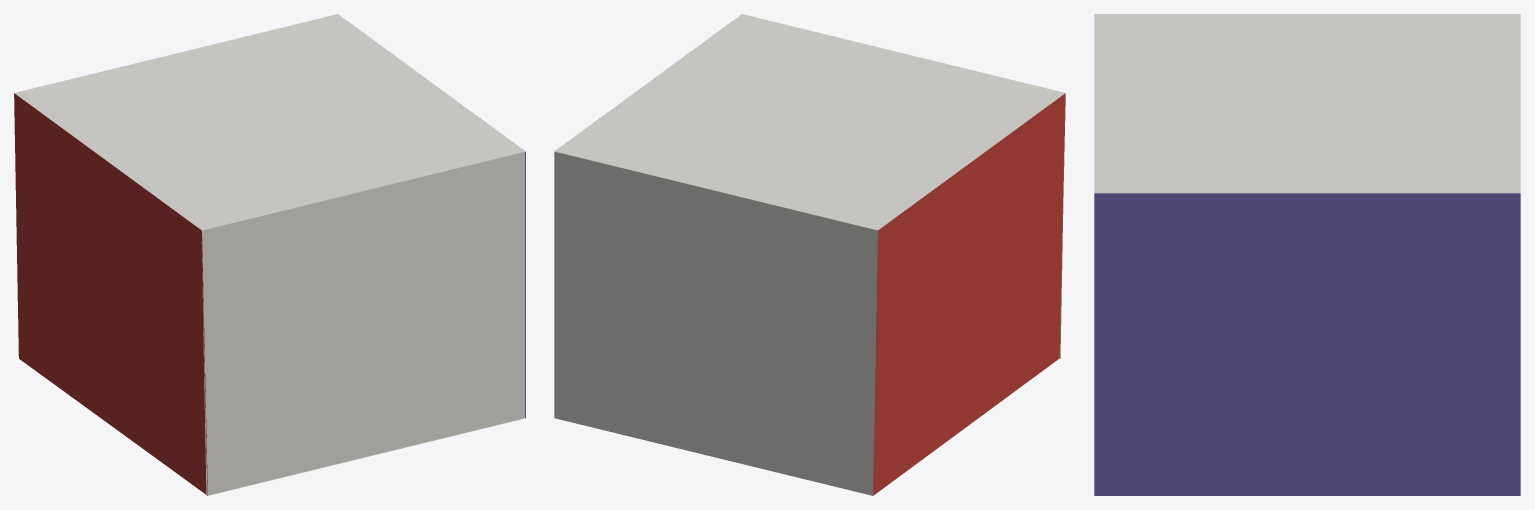
File: cornell_whitefurnace.glb
The picture shows the model from 3 angles, left to right: view 1: azimuth 30°, elevation 25°; view 2: azimuth 150°, elevation 25°; view 3: azimuth 270°, elevation 25°; orthographic projection. The views are drawn at different scales.
Visible parts, largest first — view 1: CornellBox-Empty-Squashed; view 2: CornellBox-Empty-Squashed; view 3: CornellBox-Empty-Squashed.
Boxes of the visible parts, x1,y1,x2,y2 form: CornellBox-Empty-Squashed: [14, 14, 525, 495]; CornellBox-Empty-Squashed: [554, 14, 1065, 495]; CornellBox-Empty-Squashed: [1094, 14, 1520, 495].
Size of the model in its own units: 2.02 by 1.59 by 2.03.
